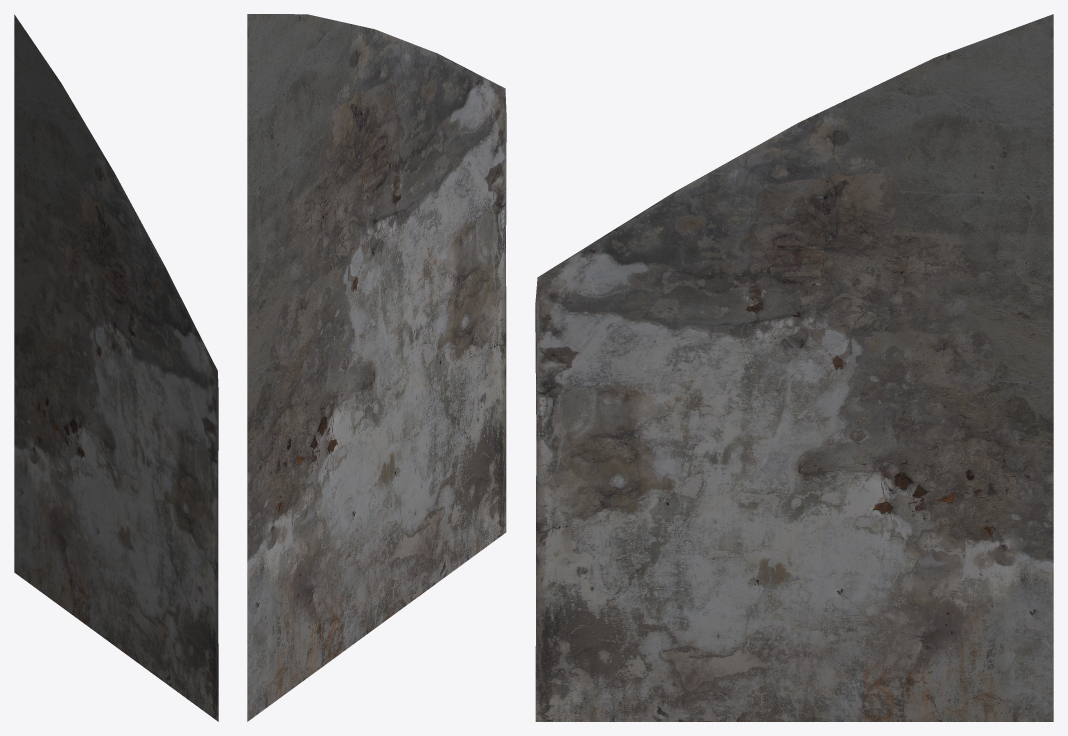
File: sm_CryptWall_02_02.fbx
The picture shows the model from 3 angles, left to right: view 1: azimuth 30°, elevation 25°; view 2: azimuth 150°, elevation 25°; view 3: azimuth 270°, elevation 25°; orthographic projection. The views are drawn at different scales.
Visible parts, largest first — view 1: sm_CryptWall_02_02_LOD0; view 2: sm_CryptWall_02_02_LOD0; view 3: sm_CryptWall_02_02_LOD0.
Part boxes in pixels (x1=…): sm_CryptWall_02_02_LOD0: x1=14, y1=14, x2=218, y2=721; sm_CryptWall_02_02_LOD0: x1=247, y1=14, x2=506, y2=721; sm_CryptWall_02_02_LOD0: x1=535, y1=14, x2=1053, y2=721.
Bounding box in the file's own units: 0.000218 × 190 × 287.
